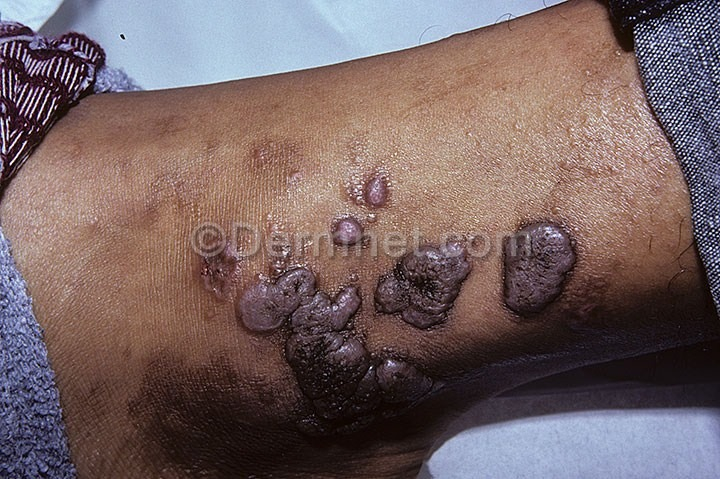Psoriasis: (242, 259, 421, 418), (490, 217, 581, 319), (378, 236, 472, 328), (320, 171, 396, 258), (187, 226, 248, 302)
